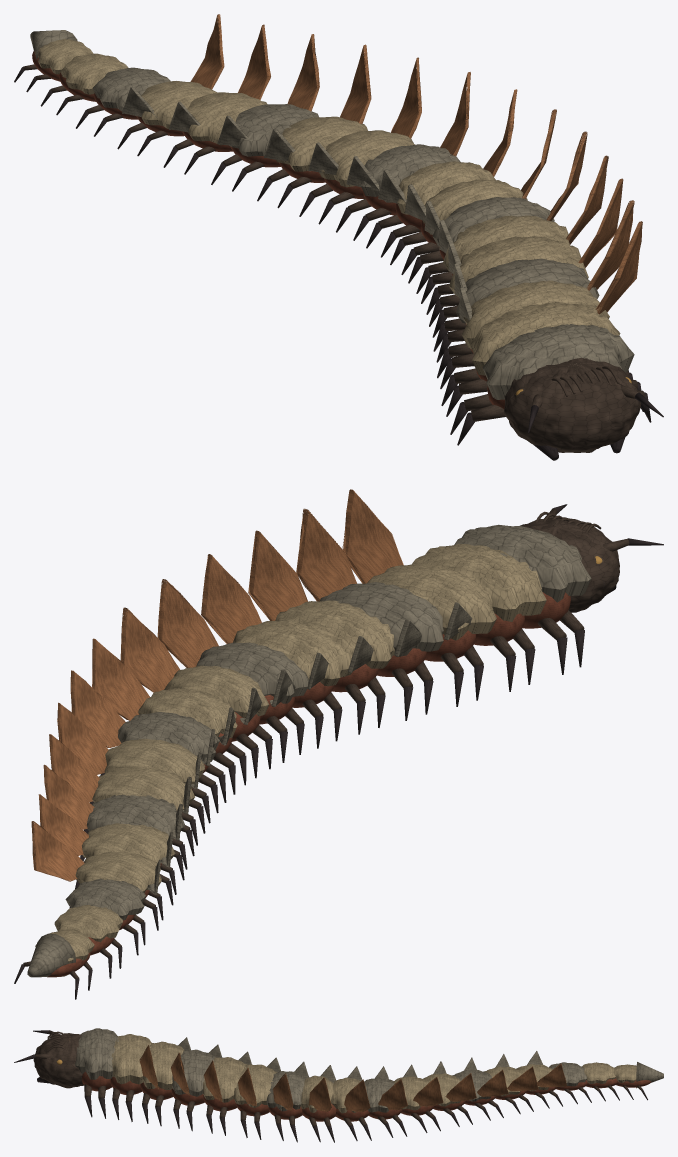
File: RattleMillipede.glb
3 renders of one model, top to bottom at view 1: azimuth 30°, elevation 25°; view 2: azimuth 150°, elevation 25°; view 3: azimuth 270°, elevation 25°, orthographic. The views are drawn at different scales.
Visible parts, largest first — view 1: Blunt sensory head, Laminar Dorsal segment 01, Laminar Dorsal segment 02, Laminar Dorsal segment 03, Laminar Dorsal segment 04, Laminar Dorsal segment 05, Laminar Dorsal segment 06, Laminar Dorsal segment 12, Laminar Dorsal segment 13, Laminar Dorsal segment 10, Laminar Dorsal segment 11, Laminar Dorsal segment 14 (+19 smaller); view 2: Laminar Dorsal segment 02, Laminar Dorsal segment 01, Laminar Dorsal segment 03, Laminar Dorsal segment 04, Laminar Dorsal segment 05, Laminar Dorsal segment 06, Blunt sensory head, Raised rattle plate 03, Laminar Dorsal segment 07, Raised rattle plate 04, Raised rattle plate 05, Raised rattle plate 07 (+24 smaller); view 3: Blunt sensory head, Laminar Dorsal segment 01, Laminar Dorsal segment 02, Laminar Dorsal segment 04, Laminar Dorsal segment 03, Laminar Dorsal segment 05, Laminar Dorsal segment 06, Laminar Dorsal segment 07, Laminar Dorsal segment 10, Laminar Dorsal segment 09, Raised rattle plate 09, Laminar Dorsal segment 11 (+33 smaller).
Part boxes in pixels (bbox=[...]): Blunt sensory head: bbox=[504, 358, 641, 452]; Laminar Dorsal segment 01: bbox=[482, 324, 634, 399]; Laminar Dorsal segment 02: bbox=[470, 301, 620, 375]; Laminar Dorsal segment 03: bbox=[461, 280, 609, 349]; Laminar Dorsal segment 04: bbox=[456, 258, 599, 323]; Laminar Dorsal segment 05: bbox=[449, 236, 588, 296]; Laminar Dorsal segment 06: bbox=[443, 215, 569, 271]; Laminar Dorsal segment 12: bbox=[276, 116, 367, 171]; Laminar Dorsal segment 13: bbox=[229, 104, 318, 159]; Laminar Dorsal segment 10: bbox=[360, 144, 460, 202]; Laminar Dorsal segment 11: bbox=[319, 130, 414, 187]; Laminar Dorsal segment 14: bbox=[187, 92, 267, 145]; Laminar Dorsal segment 02: bbox=[412, 544, 546, 621]; Laminar Dorsal segment 01: bbox=[454, 524, 591, 602]; Laminar Dorsal segment 03: bbox=[367, 563, 496, 640]; Laminar Dorsal segment 04: bbox=[319, 582, 443, 656]; Laminar Dorsal segment 05: bbox=[275, 600, 394, 668]; Laminar Dorsal segment 06: bbox=[233, 620, 352, 686]; Blunt sensory head: bbox=[520, 517, 619, 612]; Raised rattle plate 03: bbox=[342, 489, 403, 583]; Laminar Dorsal segment 07: bbox=[196, 642, 308, 703]; Raised rattle plate 04: bbox=[296, 508, 356, 601]; Raised rattle plate 05: bbox=[248, 530, 307, 620]; Raised rattle plate 07: bbox=[157, 579, 218, 667]; Blunt sensory head: bbox=[33, 1033, 83, 1088]; Laminar Dorsal segment 01: bbox=[75, 1028, 118, 1079]; Laminar Dorsal segment 02: bbox=[111, 1034, 151, 1084]; Laminar Dorsal segment 04: bbox=[172, 1049, 215, 1096]; Laminar Dorsal segment 03: bbox=[142, 1041, 184, 1090]; Laminar Dorsal segment 05: bbox=[202, 1057, 247, 1102]; Laminar Dorsal segment 06: bbox=[234, 1064, 277, 1107]; Laminar Dorsal segment 07: bbox=[266, 1071, 304, 1111]; Laminar Dorsal segment 10: bbox=[364, 1077, 394, 1112]; Laminar Dorsal segment 09: bbox=[331, 1077, 360, 1113]; Raised rattle plate 09: bbox=[344, 1079, 370, 1112]; Laminar Dorsal segment 11: bbox=[393, 1076, 427, 1110].
Bounding box in the file's own units: 1.07 × 0.5313 × 3.73.
7 materials, 6 textured.
